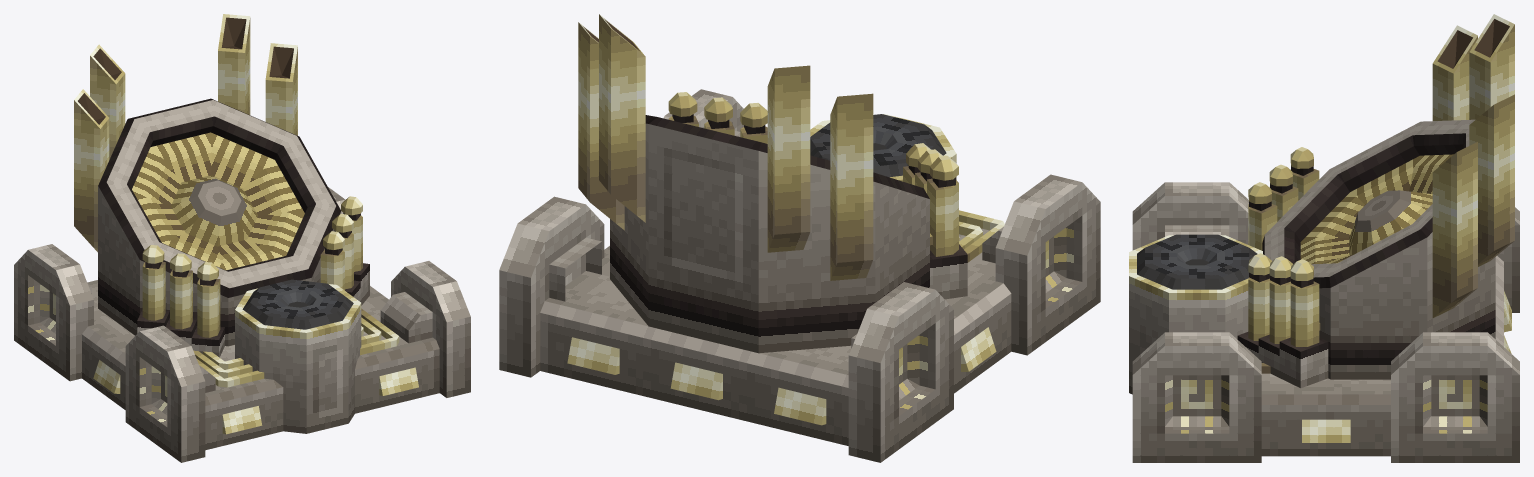
File: grand_centrifuge_inventory.obj
3 views of the same model, side by side, from view 1: azimuth 30°, elevation 25°; view 2: azimuth 150°, elevation 25°; view 3: azimuth 270°, elevation 25° (orthographic). The views are drawn at different scales.
Parts seen in each view (by area): view 1: GRAND_CENTRIFUGE_Cube.048, GRAND_CENTRIFUGE_WHEEL_Cylinder.000, GRAND_CENTRIFUGE_PLUG_BASE_Plane.005; view 2: GRAND_CENTRIFUGE_Cube.048, GRAND_CENTRIFUGE_PLUG_BASE_Plane.005; view 3: GRAND_CENTRIFUGE_Cube.048, GRAND_CENTRIFUGE_PLUG_BASE_Plane.005, GRAND_CENTRIFUGE_WHEEL_Cylinder.000.
Part boxes in pixels (x1=…): GRAND_CENTRIFUGE_Cube.048: x1=14, y1=14, x2=470, y2=462; GRAND_CENTRIFUGE_WHEEL_Cylinder.000: x1=132, y1=132, x2=304, y2=270; GRAND_CENTRIFUGE_PLUG_BASE_Plane.005: x1=82, y1=286, x2=388, y2=409; GRAND_CENTRIFUGE_Cube.048: x1=499, y1=14, x2=1100, y2=462; GRAND_CENTRIFUGE_PLUG_BASE_Plane.005: x1=604, y1=246, x2=1011, y2=393; GRAND_CENTRIFUGE_Cube.048: x1=1129, y1=14, x2=1519, y2=462; GRAND_CENTRIFUGE_PLUG_BASE_Plane.005: x1=1261, y1=391, x2=1390, y2=456; GRAND_CENTRIFUGE_WHEEL_Cylinder.000: x1=1300, y1=154, x2=1453, y2=264.
Bounding box in the file's own units: 3 × 2.75 × 3.03.
